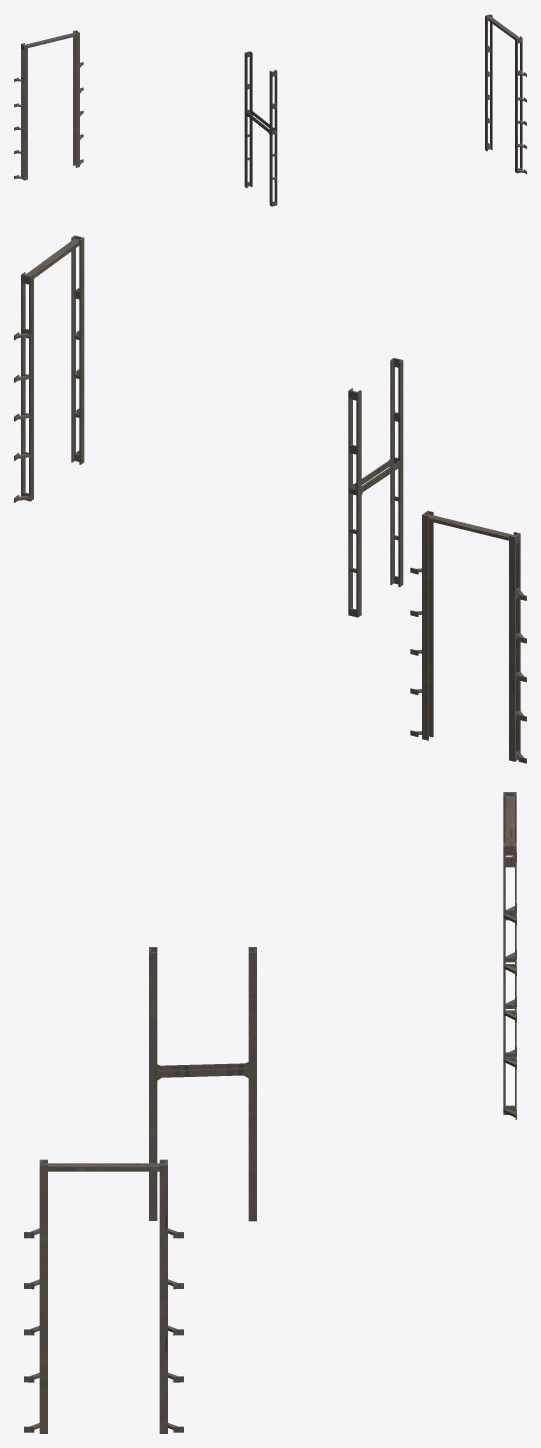
Rendered from SM_Republic_01_01.fbx.
The picture shows the model from 3 angles, top to bottom: view 1: azimuth 30°, elevation 25°; view 2: azimuth 150°, elevation 25°; view 3: azimuth 270°, elevation 25°; orthographic projection. The views are drawn at different scales.
Parts seen in each view (by area): view 1: SM_Republic_01_01; view 2: SM_Republic_01_01; view 3: SM_Republic_01_01.
Boxes of the visible parts, left/top/right/bottom form: SM_Republic_01_01: left=14, top=14, right=526, bottom=206; SM_Republic_01_01: left=14, top=235, right=526, bottom=763; SM_Republic_01_01: left=24, top=792, right=516, bottom=1433.
Bounding box in the file's own units: 3004 × 989 × 1646.
